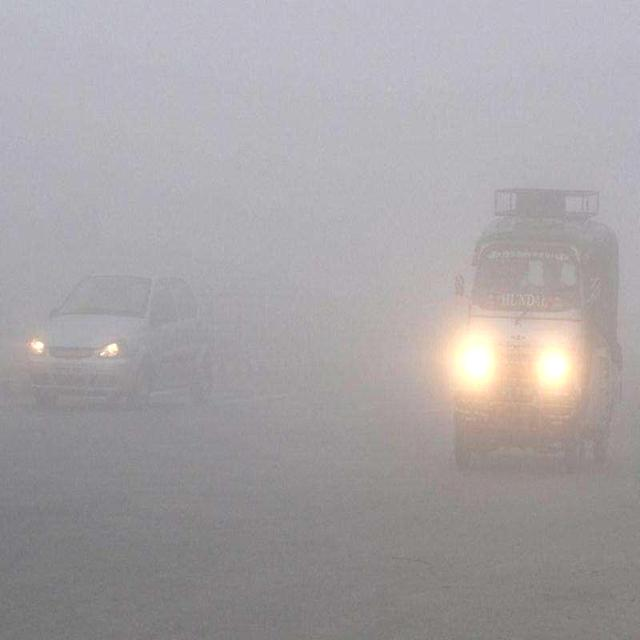Car: (25, 256, 207, 405)
Truck: (456, 178, 627, 464)
